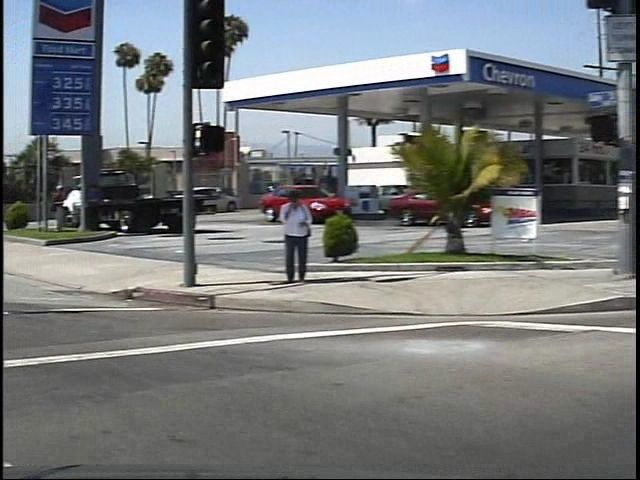person: (267, 187, 305, 288), (42, 182, 62, 237)
